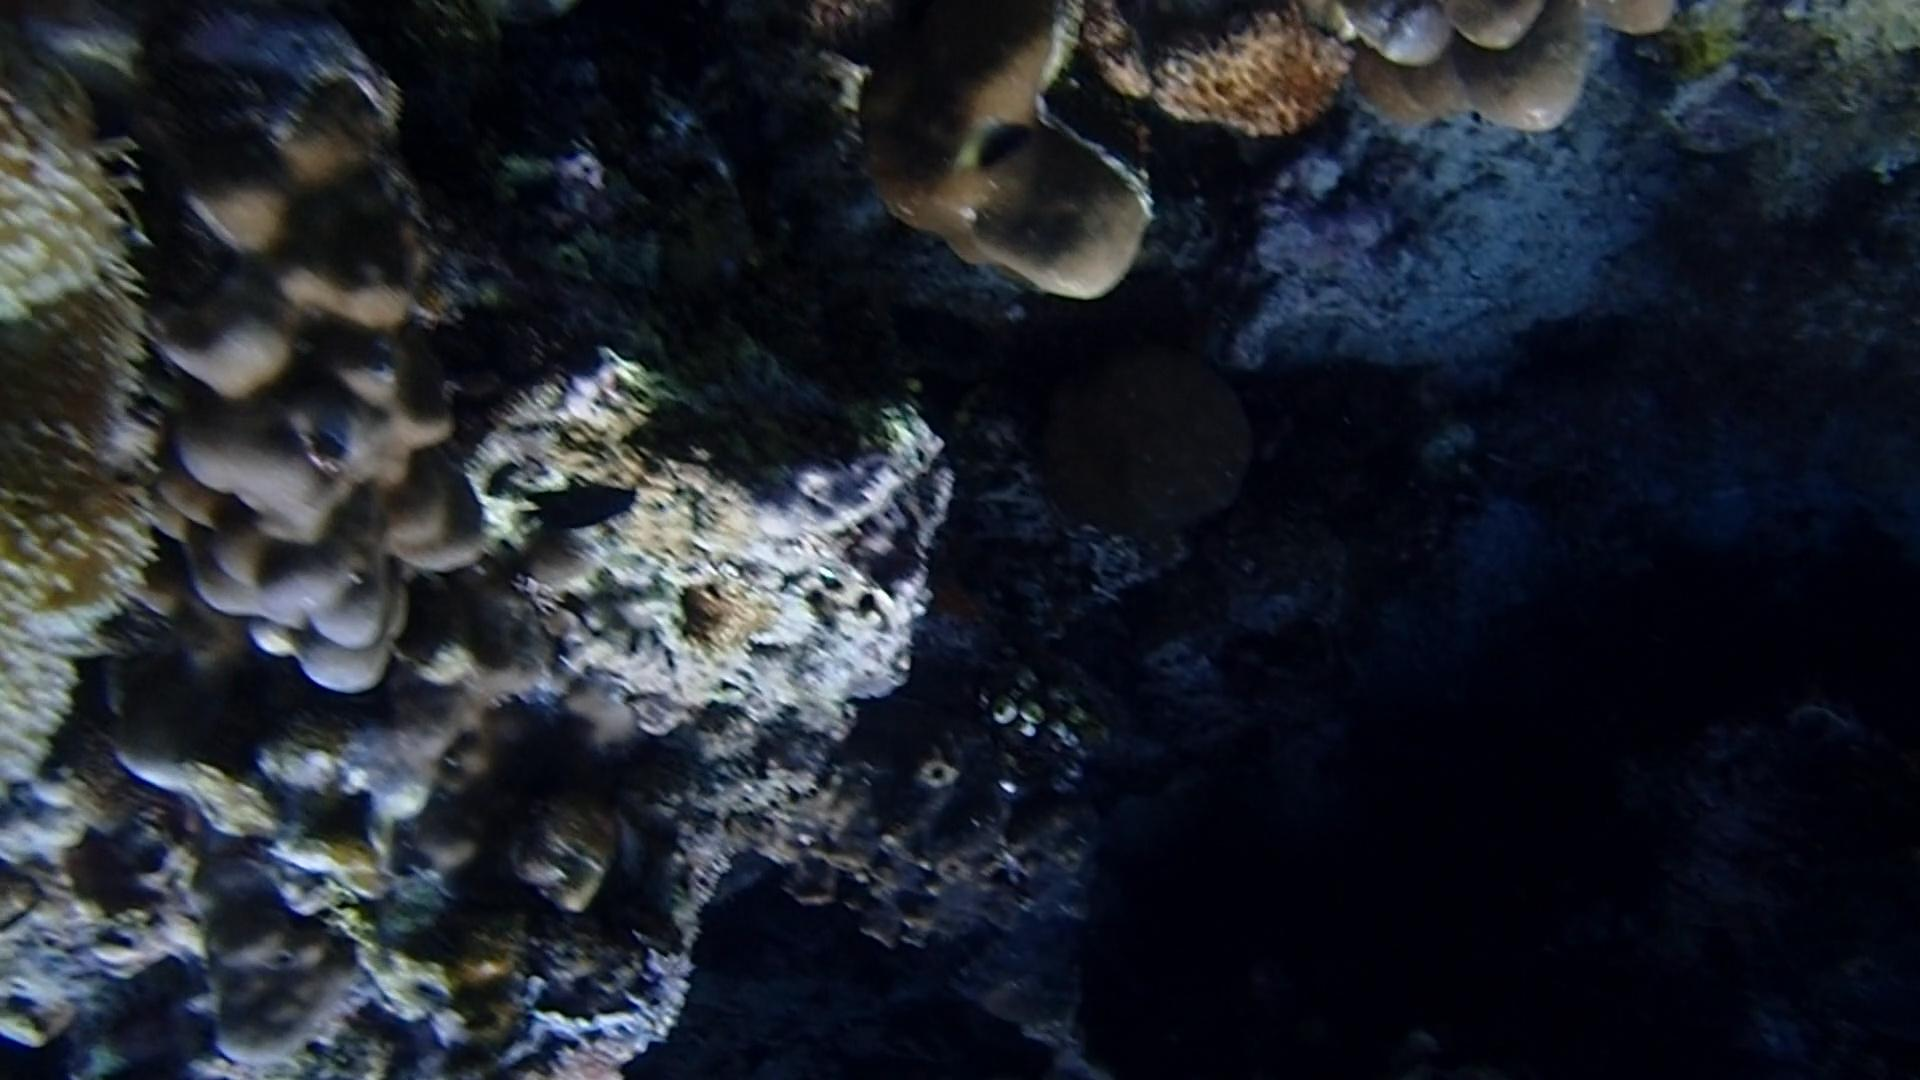Dark Fish: (517, 468, 642, 542)
Yellow Tail: (953, 119, 1042, 179)
